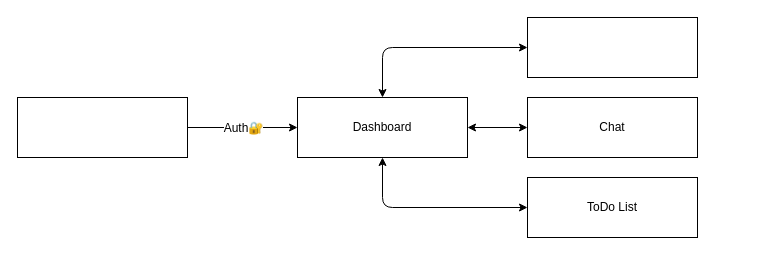
This 774x255 diagram has some shape labels left out. Here are the shapes that lost their labels. From the top down, the box of each, then its label:
(526, 16, 698, 78): Agenda
(16, 96, 188, 158): Login
